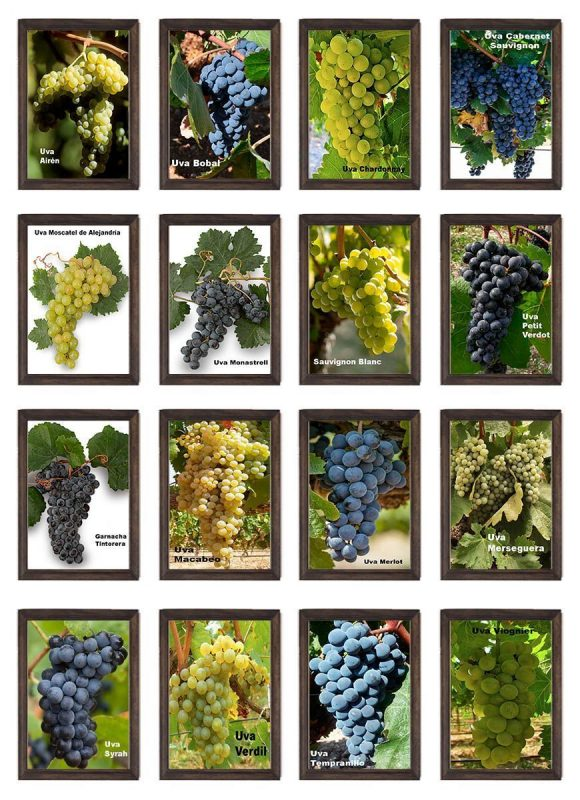Black grapes: (176, 40, 265, 177), (327, 624, 405, 765), (458, 229, 526, 381), (35, 622, 104, 771), (320, 428, 392, 570), (183, 268, 269, 375), (35, 459, 91, 574), (482, 60, 537, 155)
Green grapes: (310, 30, 401, 181), (170, 420, 260, 572), (452, 640, 548, 778), (310, 241, 408, 362), (39, 52, 129, 174), (45, 259, 118, 368), (493, 436, 542, 520), (458, 433, 486, 505)
